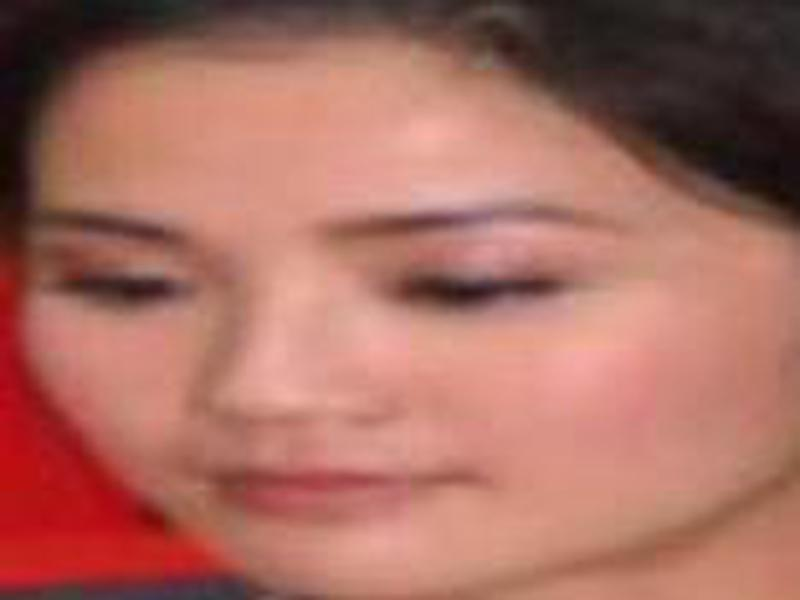without_mask: (24, 97, 736, 600)
